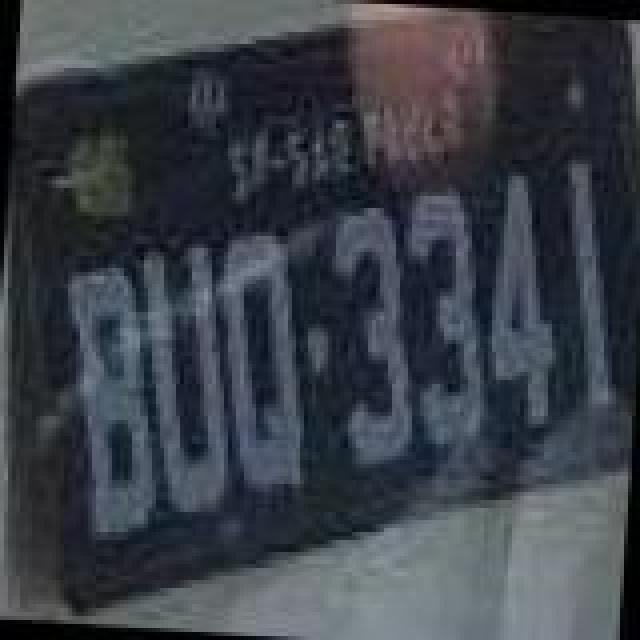1: (550, 160, 634, 416)
3: (314, 204, 430, 476), (392, 186, 504, 454)
4: (482, 168, 574, 432)
B: (48, 262, 176, 546)
Q: (200, 234, 320, 502)
U: (122, 238, 246, 522)
